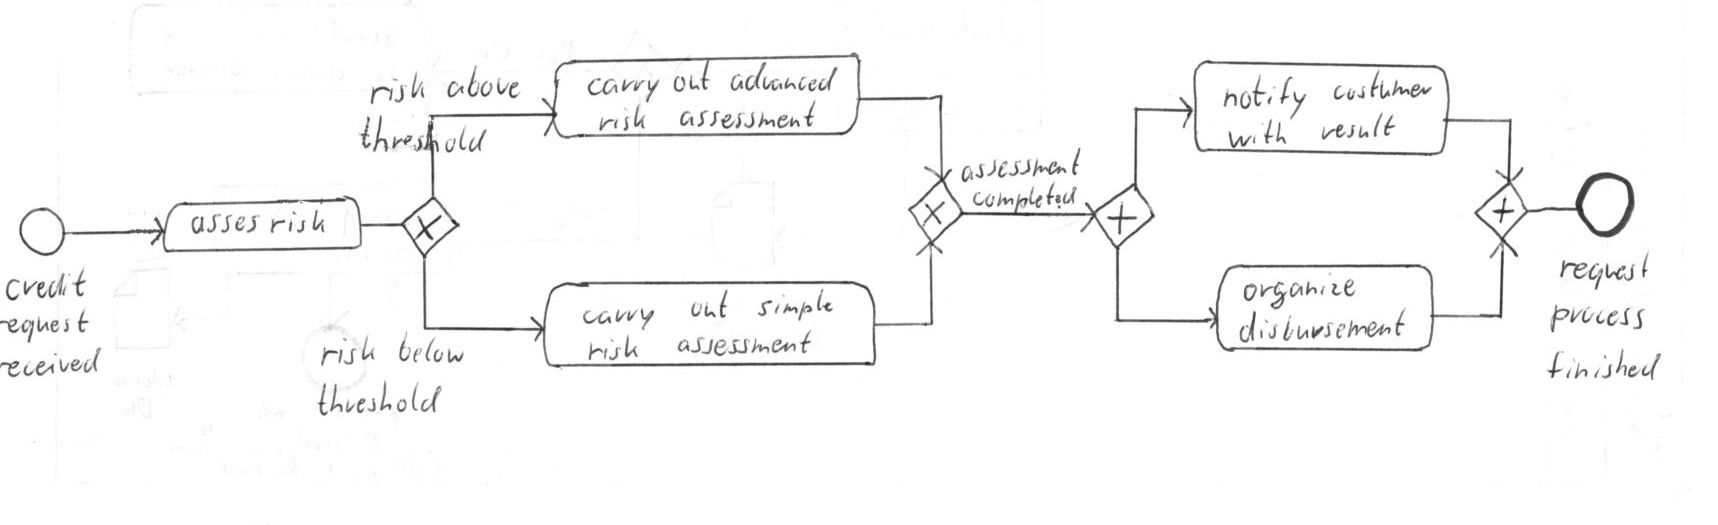above: (440, 58, 527, 104)
advanced: (723, 56, 843, 98)
asses: (186, 207, 266, 240)
assessment: (957, 141, 1087, 189), (675, 95, 822, 134), (671, 324, 817, 362)
below: (393, 326, 470, 370)
carry: (580, 70, 665, 109), (576, 300, 658, 336)
completed: (967, 176, 1083, 216)
credit: (1, 261, 93, 307)
custumer: (1326, 62, 1438, 106)
disbursement: (1232, 301, 1411, 349)
finished: (1539, 340, 1668, 386)
notify: (1215, 66, 1313, 126)
organize: (1237, 269, 1363, 315)
out: (667, 53, 717, 99), (684, 285, 736, 324)
process: (1543, 297, 1650, 339)
received: (1, 340, 108, 385)
request: (1553, 246, 1656, 296), (1, 300, 98, 350)
result: (1316, 109, 1402, 146)
risk: (314, 328, 381, 372), (363, 65, 429, 109), (264, 204, 330, 241), (582, 328, 644, 366), (594, 98, 651, 135)
simple: (751, 284, 839, 327)
threshold: (353, 109, 493, 160), (310, 373, 447, 423)
with: (1222, 115, 1292, 153)
